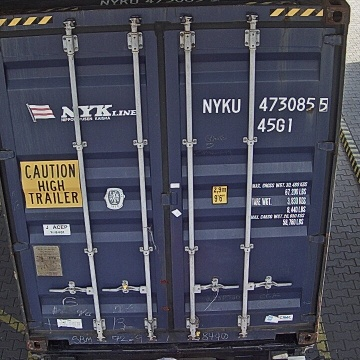serial_id: (203, 97, 328, 112)
